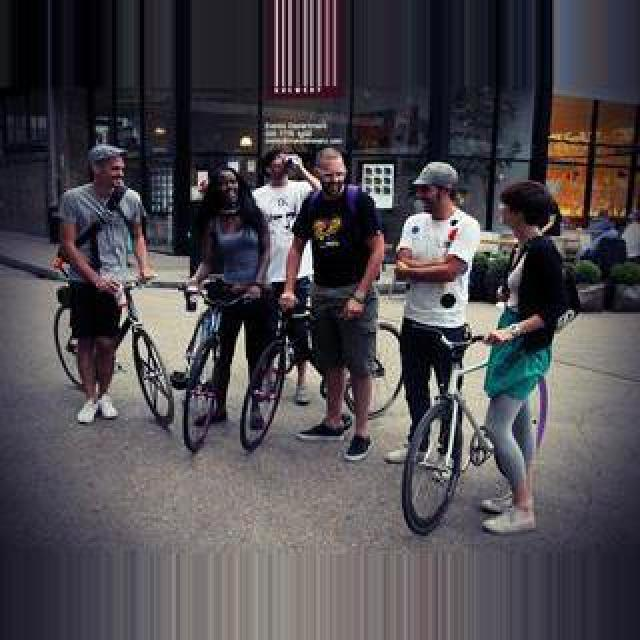MC-Bike: (476, 182, 576, 528), (284, 148, 386, 454), (52, 144, 154, 424), (392, 160, 480, 470), (184, 160, 276, 434), (250, 148, 314, 416)
Person: (394, 316, 550, 534), (62, 272, 174, 424), (174, 276, 256, 452), (240, 290, 314, 450)
